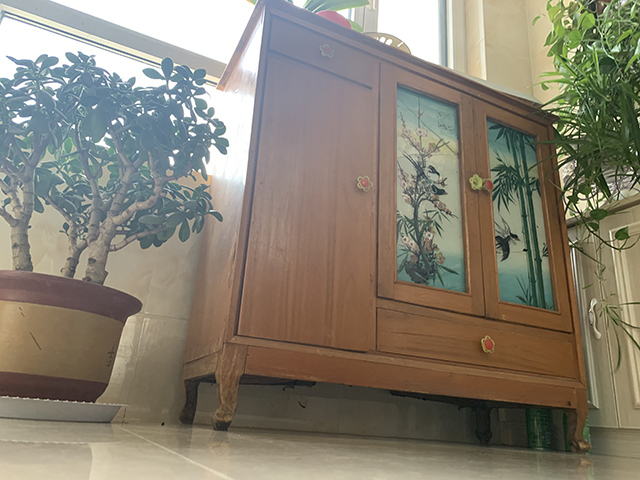cabinet: (176, 1, 593, 456)
